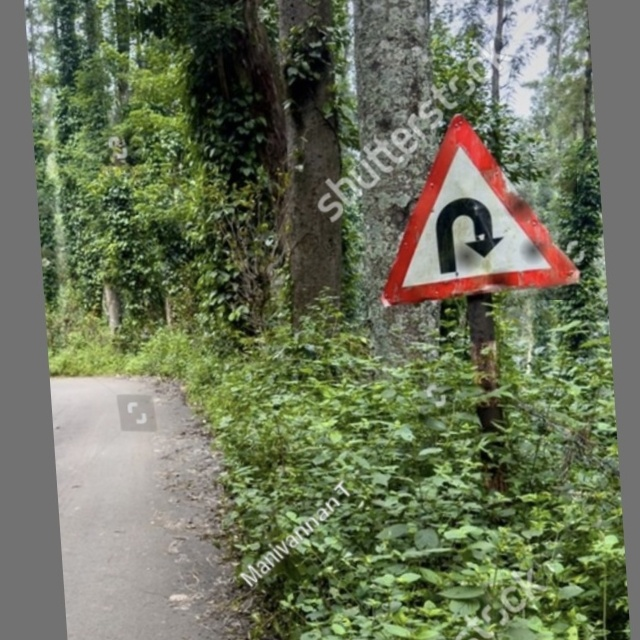Right_Hair_Pin_Bend: (375, 107, 577, 300)
